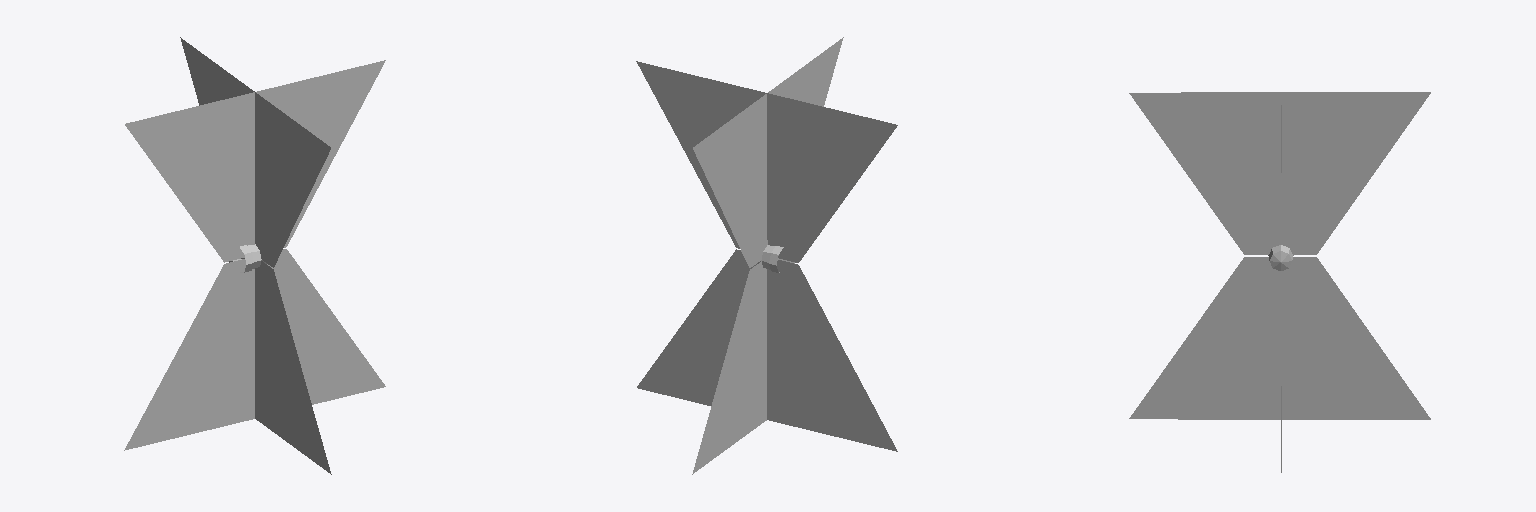
The model's file is stg400_MotRotlightA_w8_23.obj.
3 views of the same model, side by side, from view 1: azimuth 30°, elevation 25°; view 2: azimuth 150°, elevation 25°; view 3: azimuth 270°, elevation 25° (orthographic).
Visible parts, largest first — view 1: polygon4; view 2: polygon4; view 3: polygon4.
Boxes of the visible parts, <box> form: polygon4: <box>124,37,385,474</box>; polygon4: <box>636,37,897,474</box>; polygon4: <box>1129,92,1430,472</box>.
Size of the model in its own units: 91.26 by 109 by 91.26.